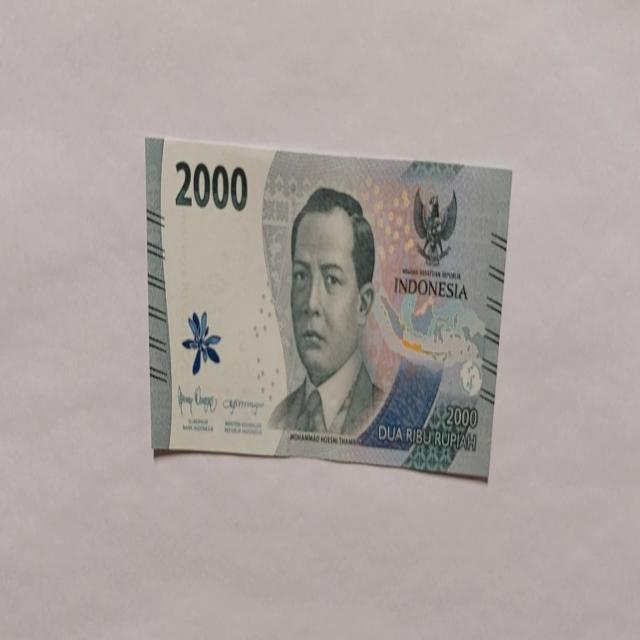dua ribu rupiah: (145, 134, 513, 479), (266, 184, 386, 438)
